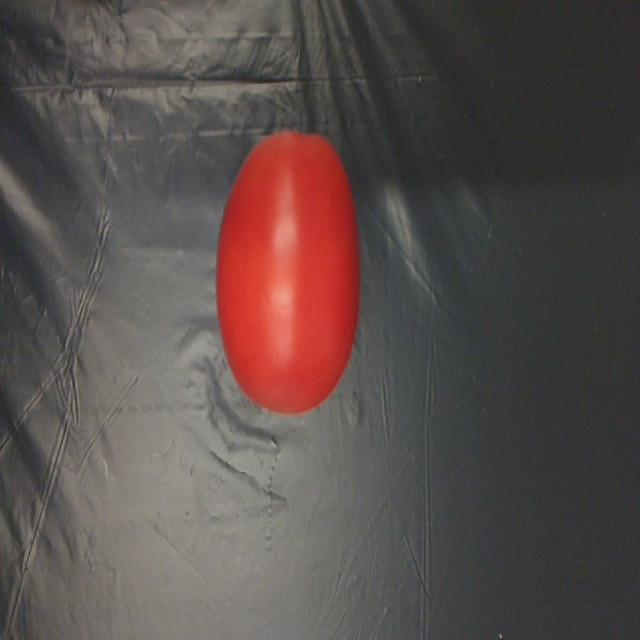kirmizi: (213, 109, 368, 428)
